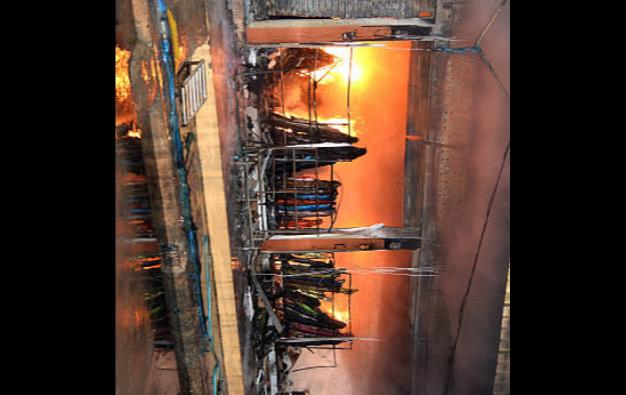fire: (243, 40, 411, 166), (317, 262, 366, 358)
smoke: (399, 0, 507, 395)
